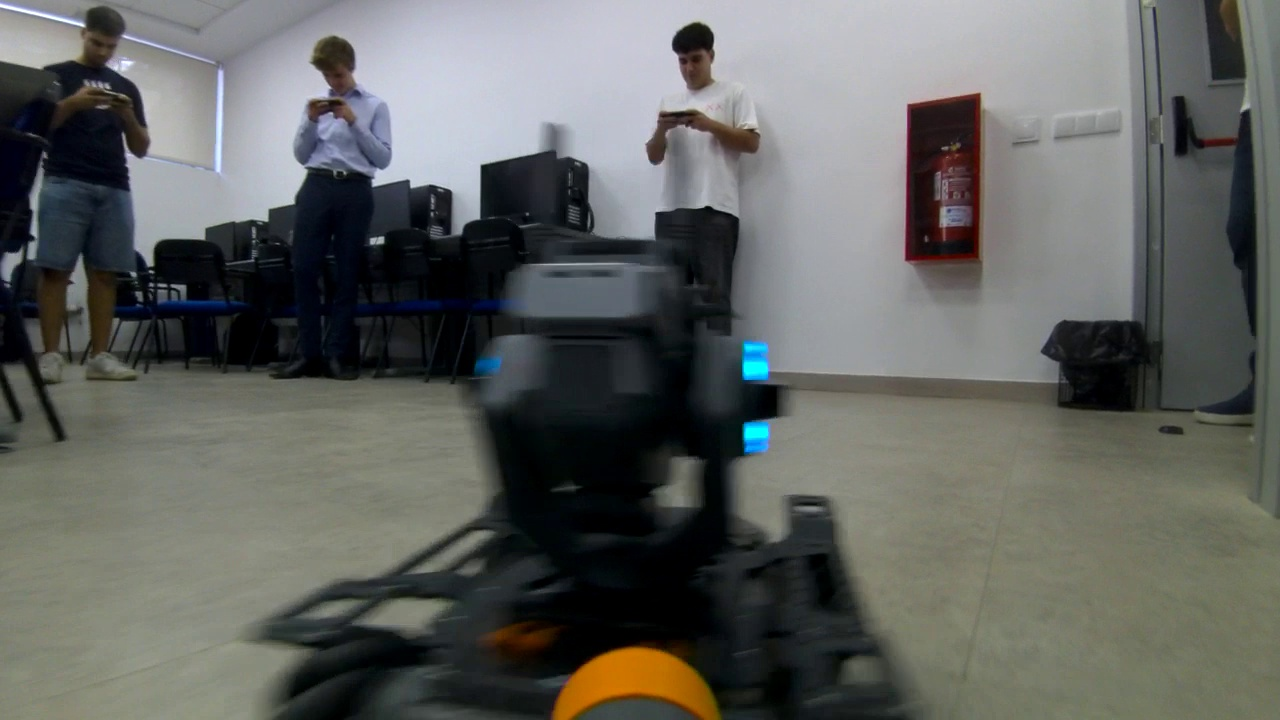robot: (223, 117, 982, 720)
